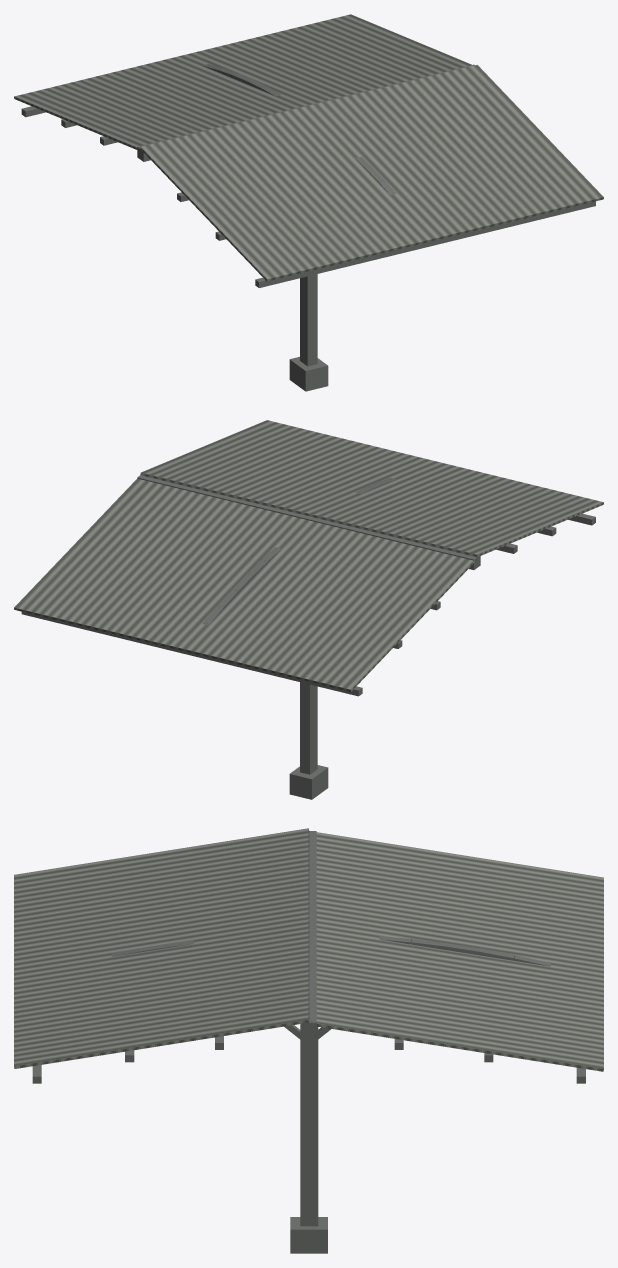
Rendered from tainan-canopy.glb.
3 views of the same model, one above another, from view 1: azimuth 30°, elevation 25°; view 2: azimuth 150°, elevation 25°; view 3: azimuth 270°, elevation 25° (orthographic). The views are drawn at different scales.
Visible parts, largest first — view 1: b; view 2: b; view 3: b.
Boxes of the visible parts, x1=… form: b: x1=14, y1=14, x2=603, y2=391; b: x1=14, y1=420, x2=603, y2=799; b: x1=14, y1=828, x2=603, y2=1253.
Size of the model in its own units: 6 by 4.72 by 7.81.
3 materials, 1 textured.
